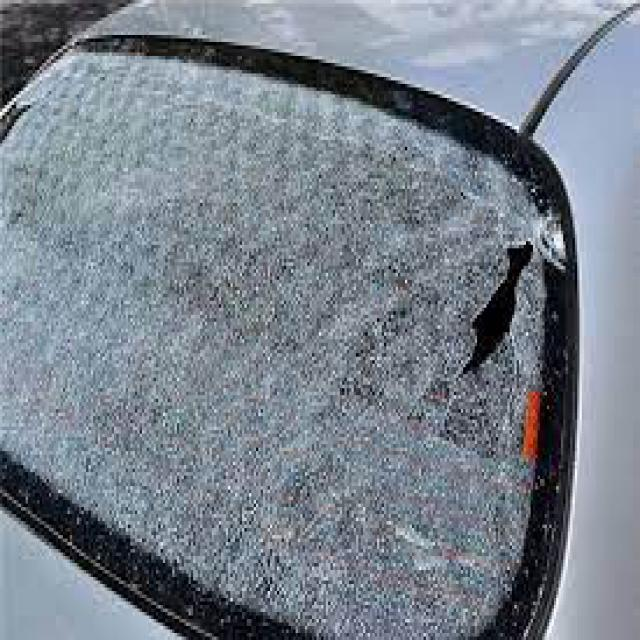Rear-windscreen-Damage: (305, 133, 594, 497)
